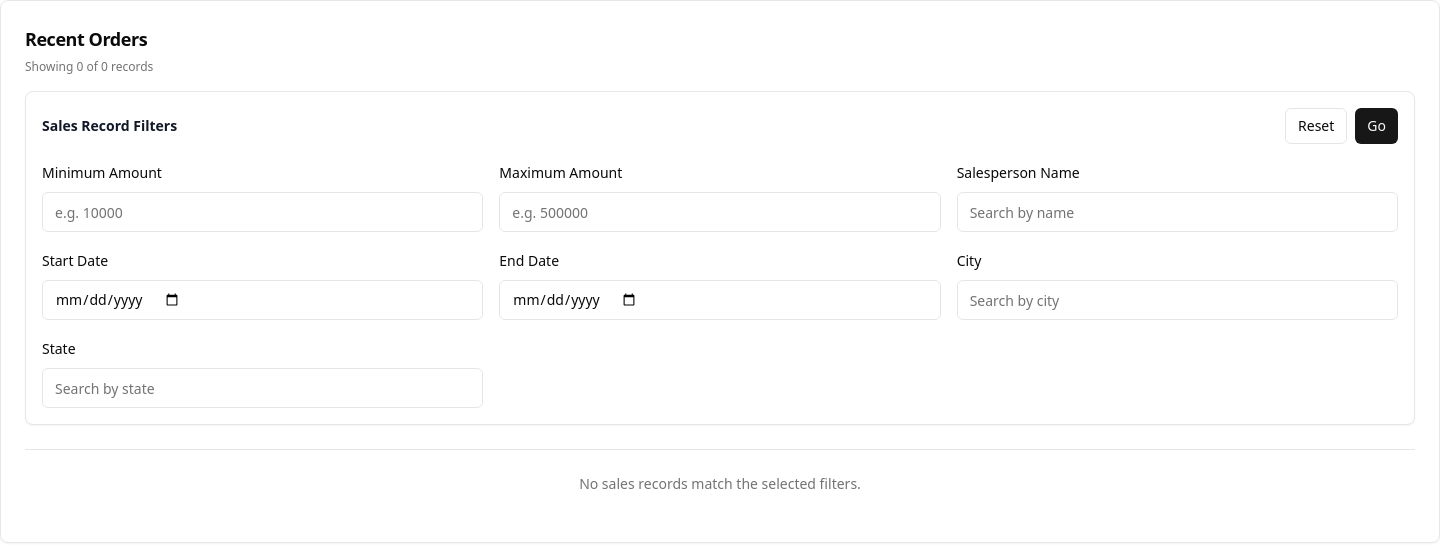
DashboardRecentOrders › resets filters when Reset button is clicked
Type "10000" into the number field labelled "Minimum Amount".
click(263, 212); type("10000")  # box [42,192,483,232]
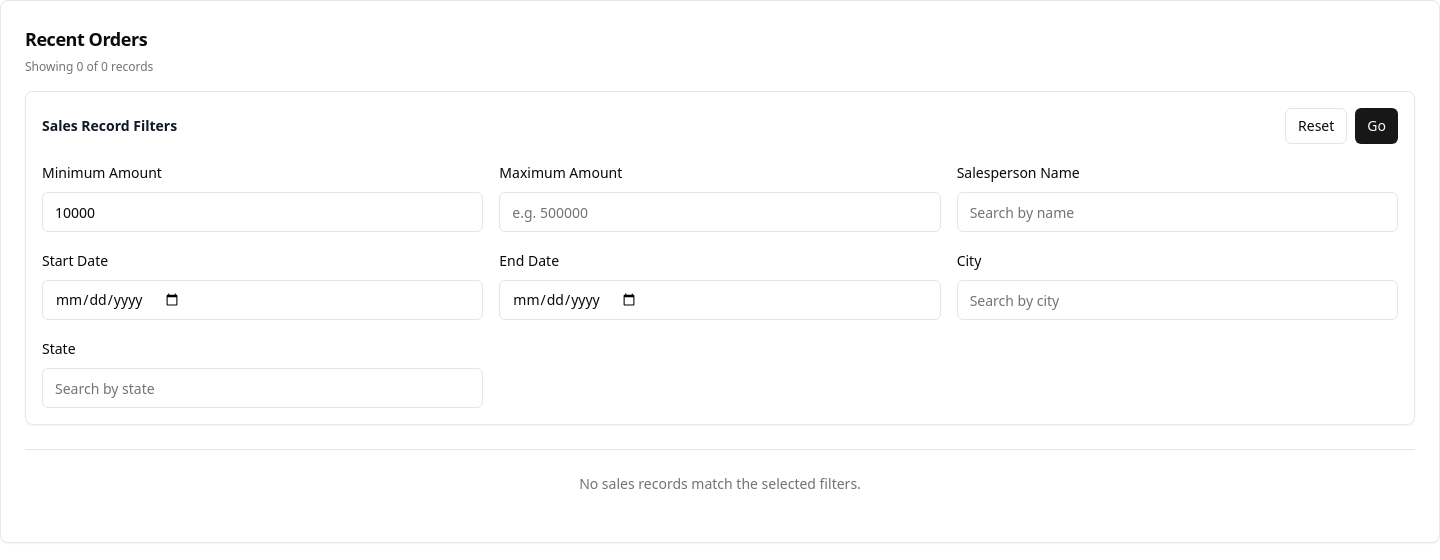
Click the button "Reset".
click(1316, 126)  # box [1285,108,1347,144]
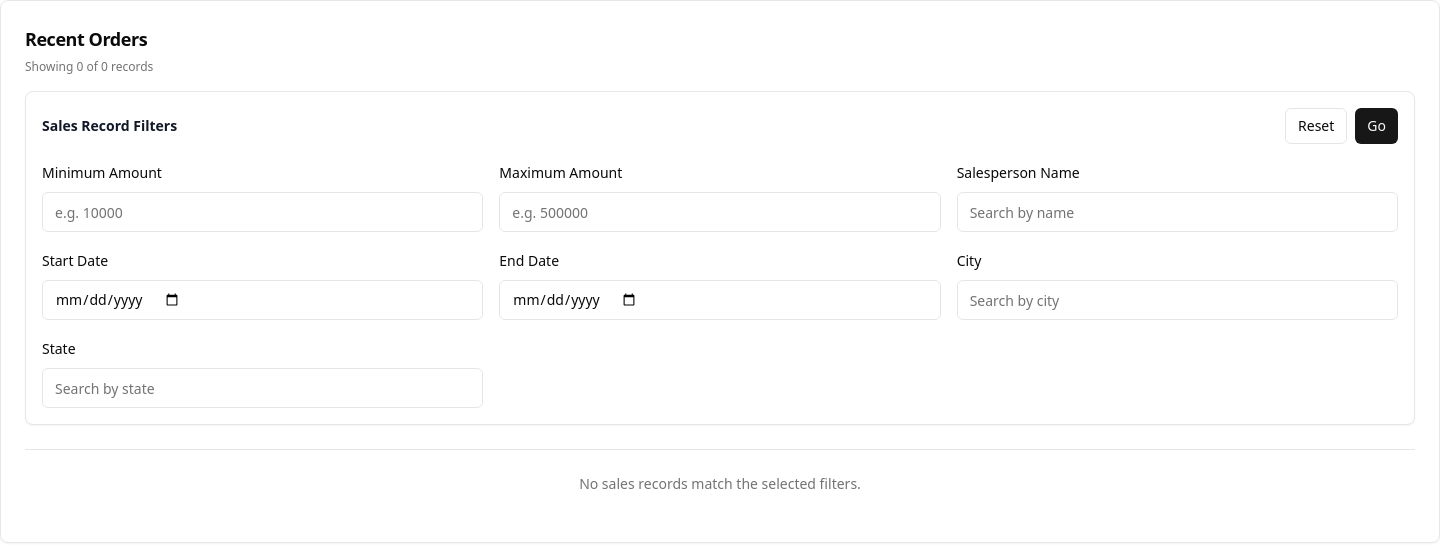
Expected: the number field labelled "Minimum Amount" is empty, [42,192,483,232]
